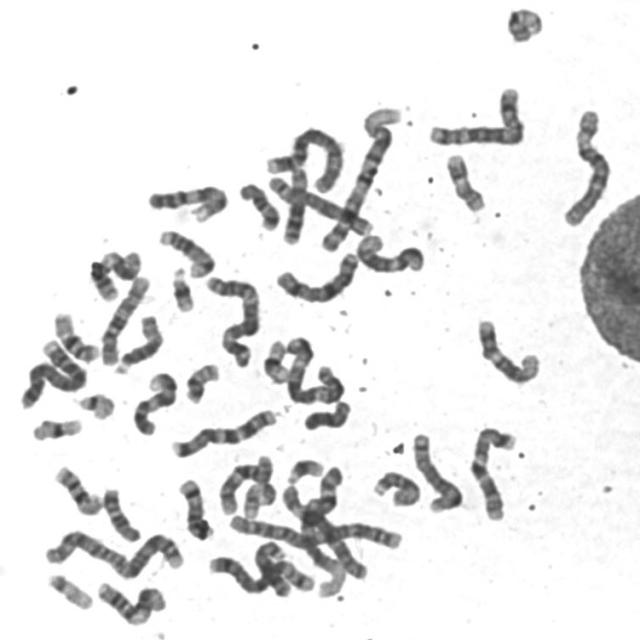A1: (317, 101, 401, 254), (294, 459, 349, 600)
A2: (222, 509, 414, 560), (39, 522, 188, 581)
A3: (200, 268, 264, 369), (280, 330, 348, 406)
B4: (260, 120, 347, 194), (16, 336, 90, 416)
B5: (424, 81, 528, 148), (202, 548, 318, 596)
C10: (96, 269, 152, 368), (215, 449, 277, 516)
C11: (92, 576, 170, 627), (85, 244, 145, 302)
C12: (471, 312, 544, 387), (352, 228, 427, 276)
C6: (277, 473, 372, 581), (557, 102, 613, 229)
C7: (166, 403, 280, 460), (464, 419, 520, 523)
C8: (262, 168, 378, 238), (406, 426, 466, 514)
C9: (141, 178, 231, 225), (127, 366, 180, 438)
D13: (278, 160, 313, 246), (250, 535, 294, 599)
D14: (152, 224, 216, 279), (173, 473, 216, 542)
D15: (109, 308, 166, 376), (368, 465, 423, 508)
E16: (48, 459, 106, 518), (48, 304, 103, 364)
E17: (441, 146, 489, 214), (236, 476, 279, 520)
E18: (97, 482, 143, 544), (234, 176, 281, 231)
F19: (26, 411, 86, 443), (258, 333, 292, 386)
F20: (180, 357, 222, 405), (501, 1, 546, 45)
G21: (166, 262, 197, 313), (282, 452, 326, 486)
G22: (42, 566, 96, 612), (72, 388, 117, 421)
X: (270, 245, 362, 306)
Y: (298, 394, 354, 432)
